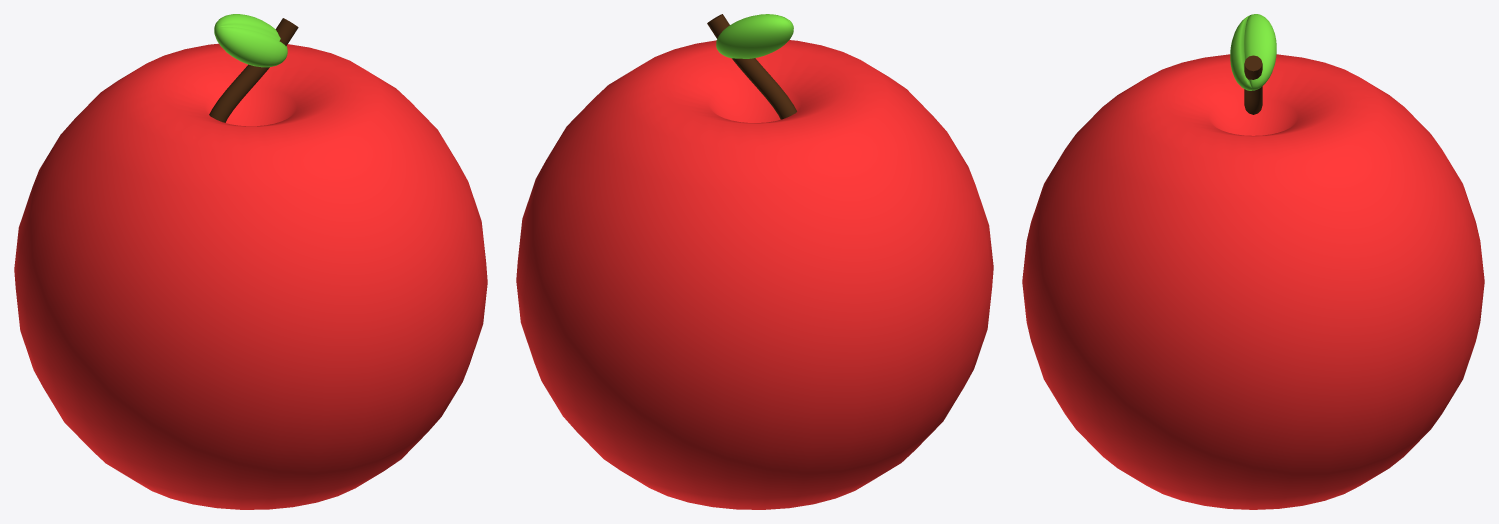
Rendered from apple.glb.
The picture shows the model from 3 angles, left to right: view 1: azimuth 30°, elevation 25°; view 2: azimuth 150°, elevation 25°; view 3: azimuth 270°, elevation 25°; orthographic projection. The views are drawn at different scales.
Parts seen in each view (by area): view 1: 球, 球.001, ベジエカーブ; view 2: 球, 球.001, ベジエカーブ; view 3: 球, 球.001, ベジエカーブ.
Part boxes in pixels (bbox=[...]): 球: bbox=[14, 43, 487, 509]; 球.001: bbox=[214, 14, 287, 67]; ベジエカーブ: bbox=[209, 18, 298, 122]; 球: bbox=[516, 40, 993, 509]; 球.001: bbox=[716, 14, 793, 58]; ベジエカーブ: bbox=[707, 14, 796, 119]; 球: bbox=[1022, 54, 1484, 509]; 球.001: bbox=[1230, 14, 1276, 90]; ベジエカーブ: bbox=[1244, 55, 1262, 114].
Bounding box in the file's own units: 0.4586 × 0.4789 × 0.4586.
